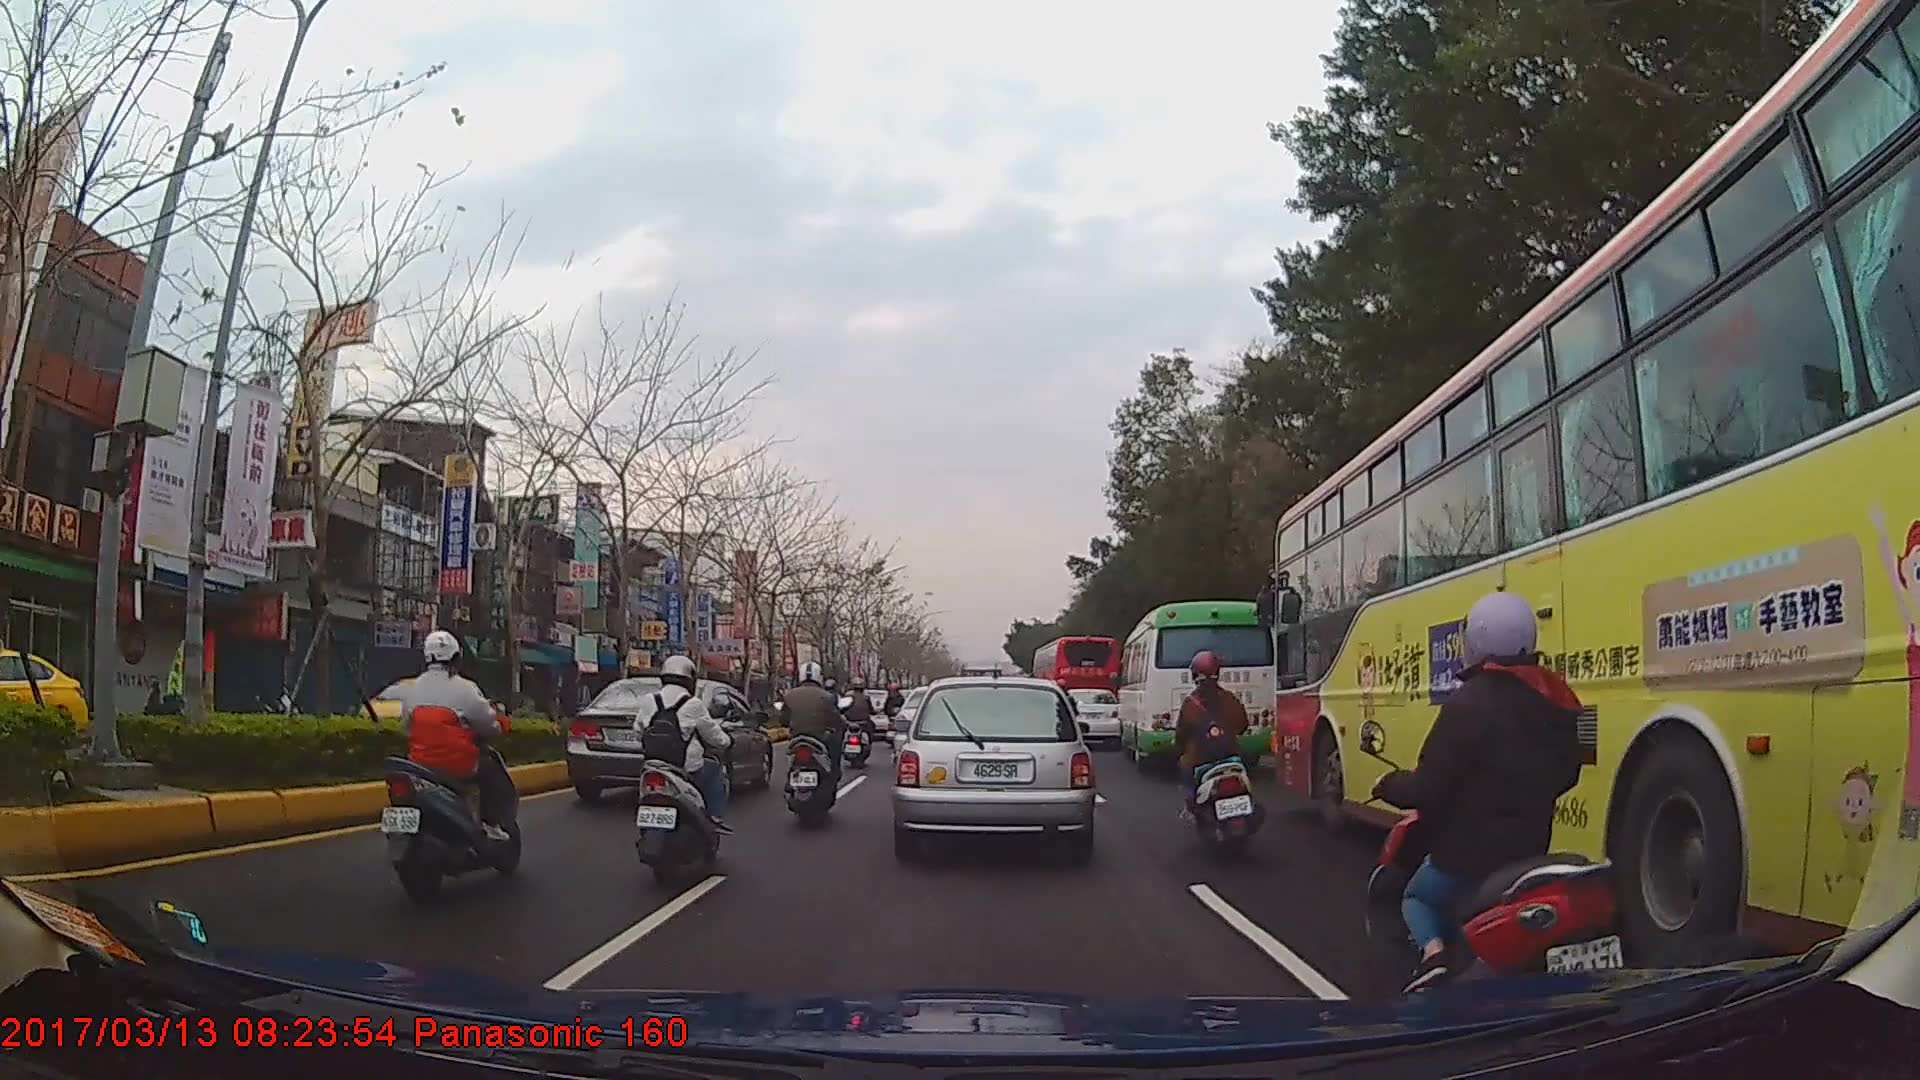rider: (1370, 593, 1629, 1002), (382, 628, 523, 905), (635, 655, 731, 893), (1168, 648, 1261, 856), (777, 664, 851, 825), (842, 678, 880, 770), (883, 682, 907, 748)
vehicle: (1268, 0, 1920, 995), (895, 670, 1093, 858), (1115, 599, 1280, 772), (562, 676, 775, 804), (349, 664, 491, 749), (0, 644, 88, 762), (1031, 634, 1117, 741), (1052, 687, 1122, 745)
